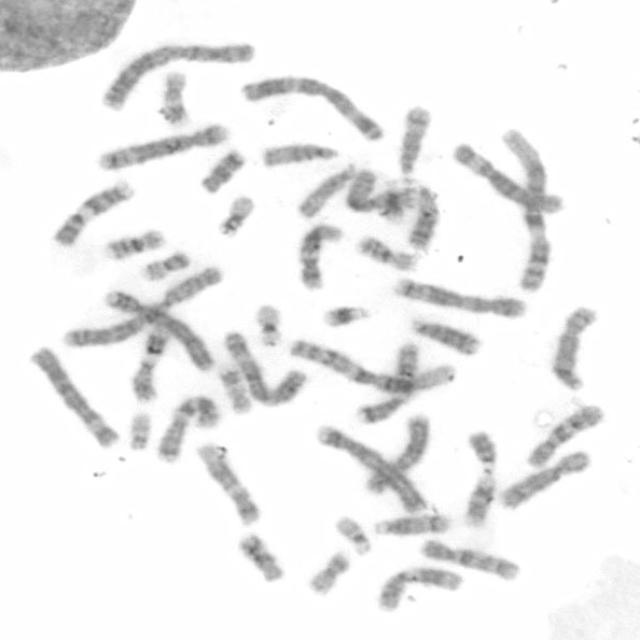A1: (285, 334, 460, 395), (496, 122, 555, 294)
A2: (60, 261, 226, 350), (94, 36, 258, 112)
A3: (235, 71, 387, 144), (221, 326, 310, 407)
B4: (311, 418, 430, 514), (98, 286, 220, 373)
B5: (93, 119, 230, 173), (388, 272, 530, 319)
C10: (520, 398, 606, 470), (416, 534, 522, 583)
C11: (372, 562, 466, 613), (127, 323, 173, 405)
C12: (192, 438, 264, 526), (293, 219, 345, 293)
C6: (24, 340, 123, 449), (447, 137, 566, 216)
C7: (350, 336, 421, 425), (150, 390, 222, 465)
C8: (494, 446, 592, 512), (545, 301, 600, 392)
C9: (48, 176, 137, 248), (457, 427, 499, 529)
D13: (404, 313, 484, 357), (403, 191, 442, 252)
D14: (392, 101, 433, 176), (370, 509, 454, 538)
D15: (292, 159, 360, 219), (256, 138, 342, 169)
E16: (352, 230, 420, 273), (100, 223, 168, 262)
E17: (213, 360, 254, 416), (157, 66, 193, 126)
E18: (232, 529, 288, 585), (195, 145, 248, 196)
F19: (214, 191, 258, 238), (249, 298, 286, 349)
F20: (302, 546, 354, 597), (138, 246, 193, 282)
G21: (371, 180, 414, 224), (317, 300, 373, 330)
G22: (328, 510, 374, 557), (123, 408, 153, 452)
X: (358, 408, 432, 496), (344, 164, 420, 216)
